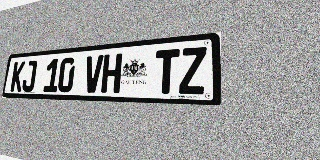0: (57, 57, 76, 92)
1: (43, 58, 61, 92)
H: (101, 53, 122, 93)
J: (21, 60, 37, 92)
K: (10, 61, 25, 92)
T: (154, 49, 180, 94)
V: (83, 55, 104, 93)
Z: (179, 46, 207, 94)
